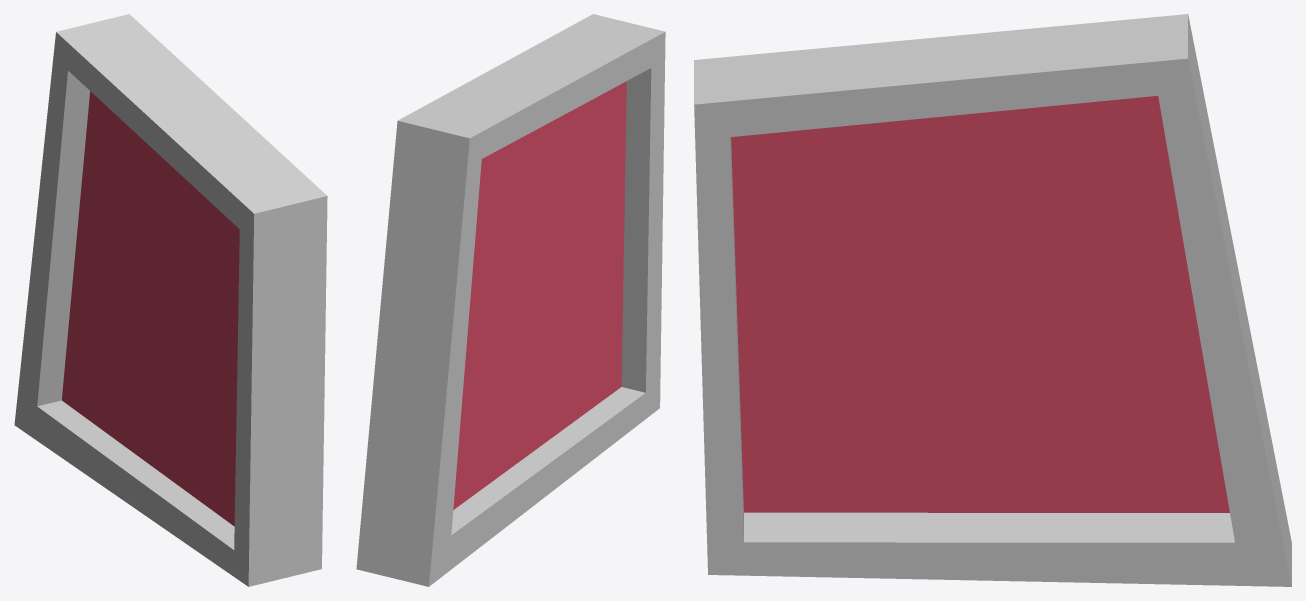
Rendered from MS_Frame9.fbx.
3 renders of one model, left to right at view 1: azimuth 30°, elevation 25°; view 2: azimuth 150°, elevation 25°; view 3: azimuth 270°, elevation 25°, orthographic. The views are drawn at different scales.
Parts seen in each view (by area): view 1: Plane.004; view 2: Plane.004; view 3: Plane.004.
Boxes of the visible parts, box(x1,y1,x2,y2) form: Plane.004: box(14, 14, 327, 586); Plane.004: box(356, 14, 665, 586); Plane.004: box(694, 14, 1291, 586).
Bounding box in the file's own units: 4.61 × 25.45 × 26.09.
